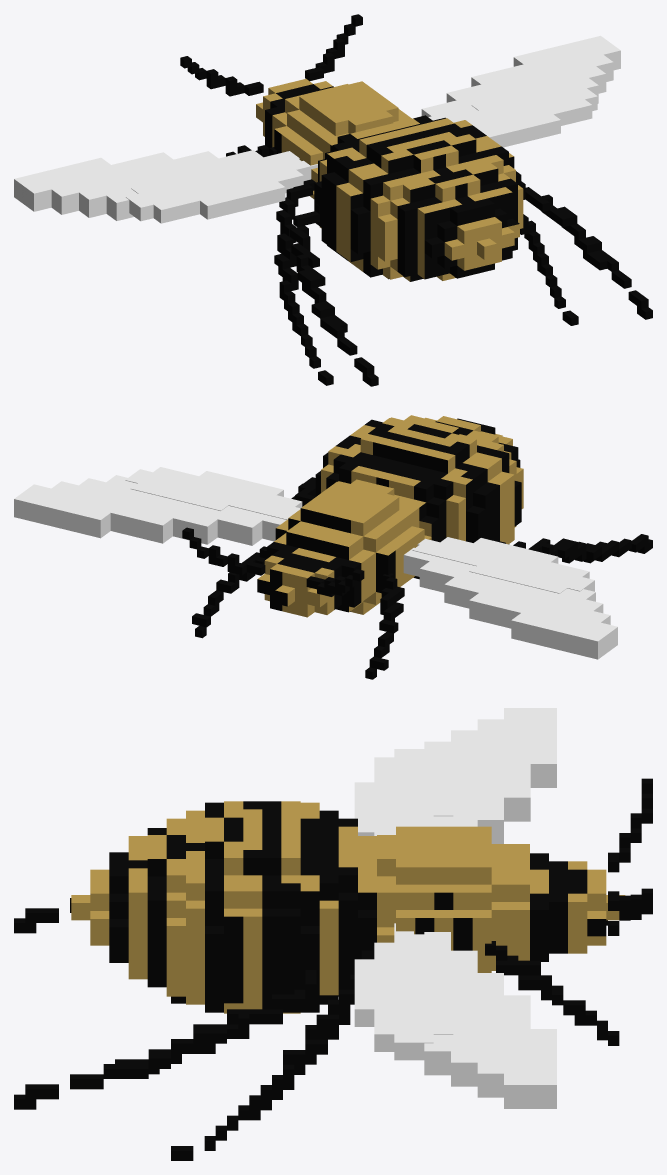
Rendered from Bee.fbx.
The picture shows the model from 3 angles, top to bottom: view 1: azimuth 30°, elevation 25°; view 2: azimuth 150°, elevation 25°; view 3: azimuth 270°, elevation 25°; orthographic projection. The views are drawn at different scales.
Parts seen in each view (by area): view 1: Plane.004, Plane.008, Plane.018, Plane.019, Plane.006, Plane.007; view 2: Plane.004, Plane.006, Plane.018, Plane.008, Plane.019, Plane.007; view 3: Plane.004, Plane.008, Plane.006, Plane.018, Plane.007, Plane.019.
Part boxes in pixels (bbox=[...]): Plane.004: bbox=[256, 79, 523, 281]; Plane.008: bbox=[180, 14, 652, 386]; Plane.018: bbox=[14, 150, 299, 220]; Plane.019: bbox=[126, 156, 317, 223]; Plane.006: bbox=[421, 35, 620, 120]; Plane.007: bbox=[448, 83, 597, 147]; Plane.004: bbox=[257, 415, 523, 617]; Plane.006: bbox=[14, 475, 286, 545]; Plane.018: bbox=[403, 547, 617, 659]; Plane.008: bbox=[182, 477, 652, 679]; Plane.019: bbox=[412, 537, 594, 593]; Plane.007: bbox=[125, 467, 302, 519]; Plane.004: bbox=[71, 801, 625, 1013]; Plane.008: bbox=[14, 778, 652, 1160]; Plane.006: bbox=[424, 932, 556, 1108]; Plane.018: bbox=[424, 708, 556, 843]; Plane.007: bbox=[354, 923, 453, 1060]; Plane.019: bbox=[354, 749, 453, 835].
Size of the model in its own units: 321 by 230 by 99.32.
